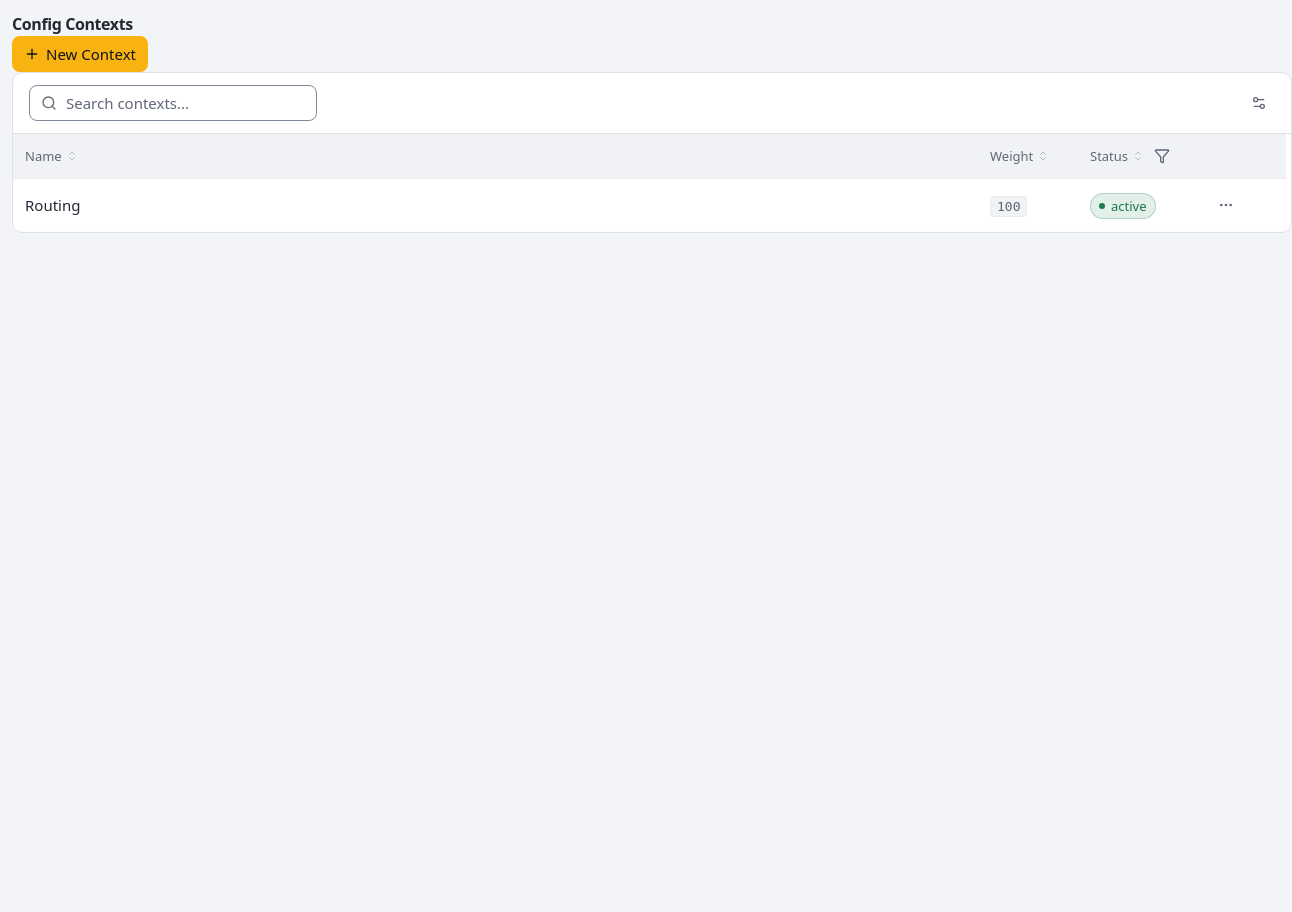
Test: Inventory secondary row actions › lets the config-context child contribute creation without replacing the parent's title
The image size is (1292, 912).
expect the text "Routing" is shown: met, box [25,195,80,215]
expect the number of headings is 1: met, box [12,12,133,36]
Click the button "New Context" at (80, 54), box [12,36,148,72]
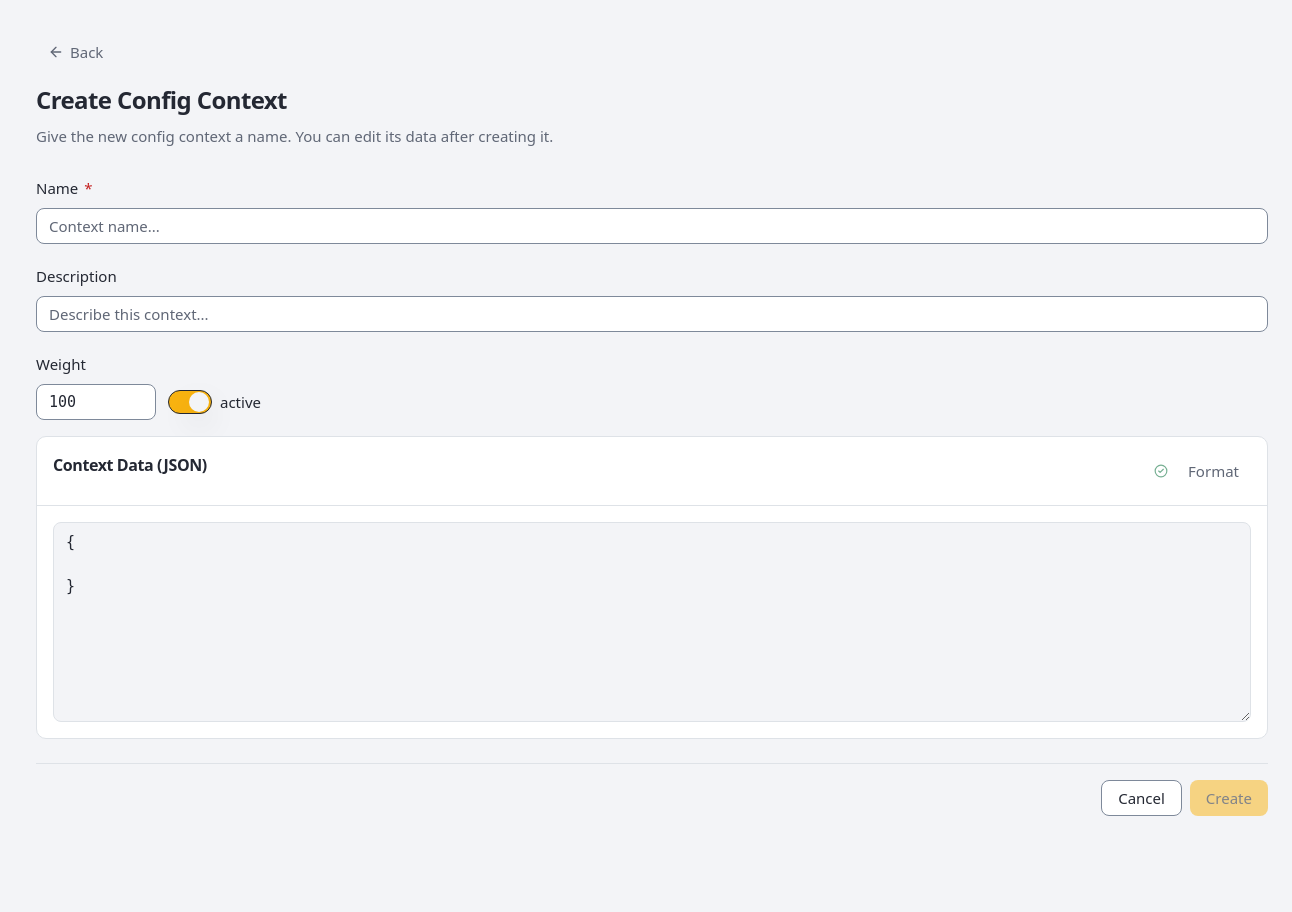
expect the heading "Create Config Context" is shown: met, box [36,83,287,116]
